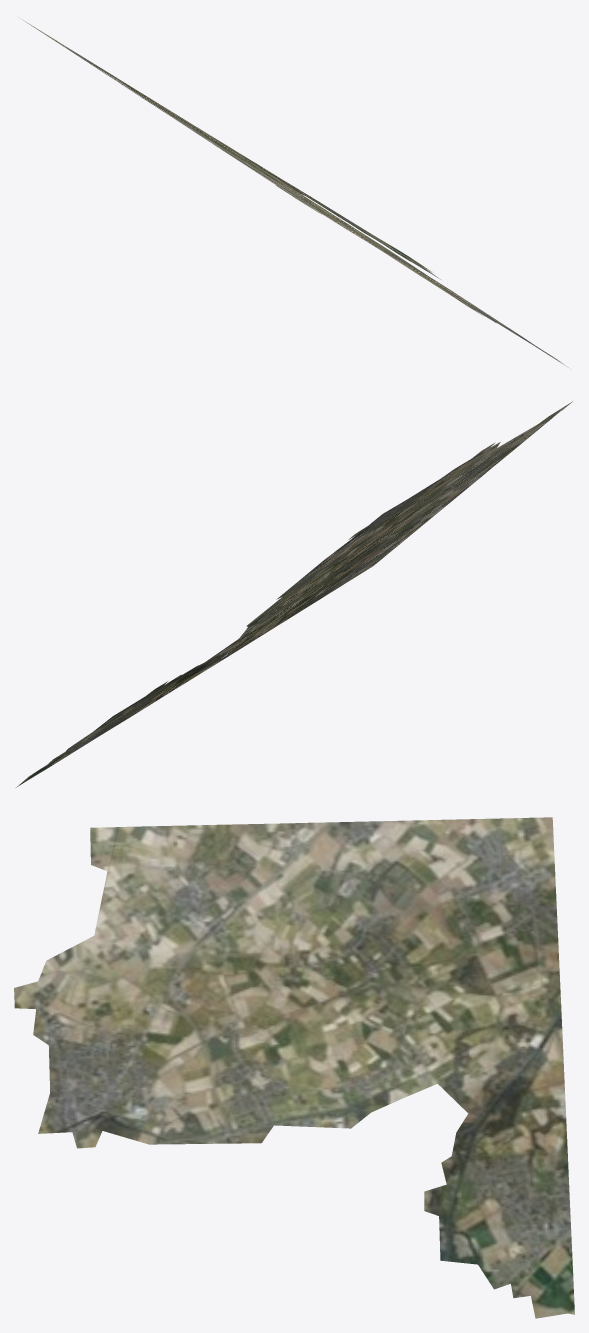
File: lille_draco.glb
3 renders of one model, top to bottom at view 1: azimuth 30°, elevation 25°; view 2: azimuth 150°, elevation 25°; view 3: azimuth 270°, elevation 25°, orthographic. The views are drawn at different scales.
Bounding box in the file's own units: 6482 × 5313 × 8451.
Materials: 1 (1 with a texture image).
